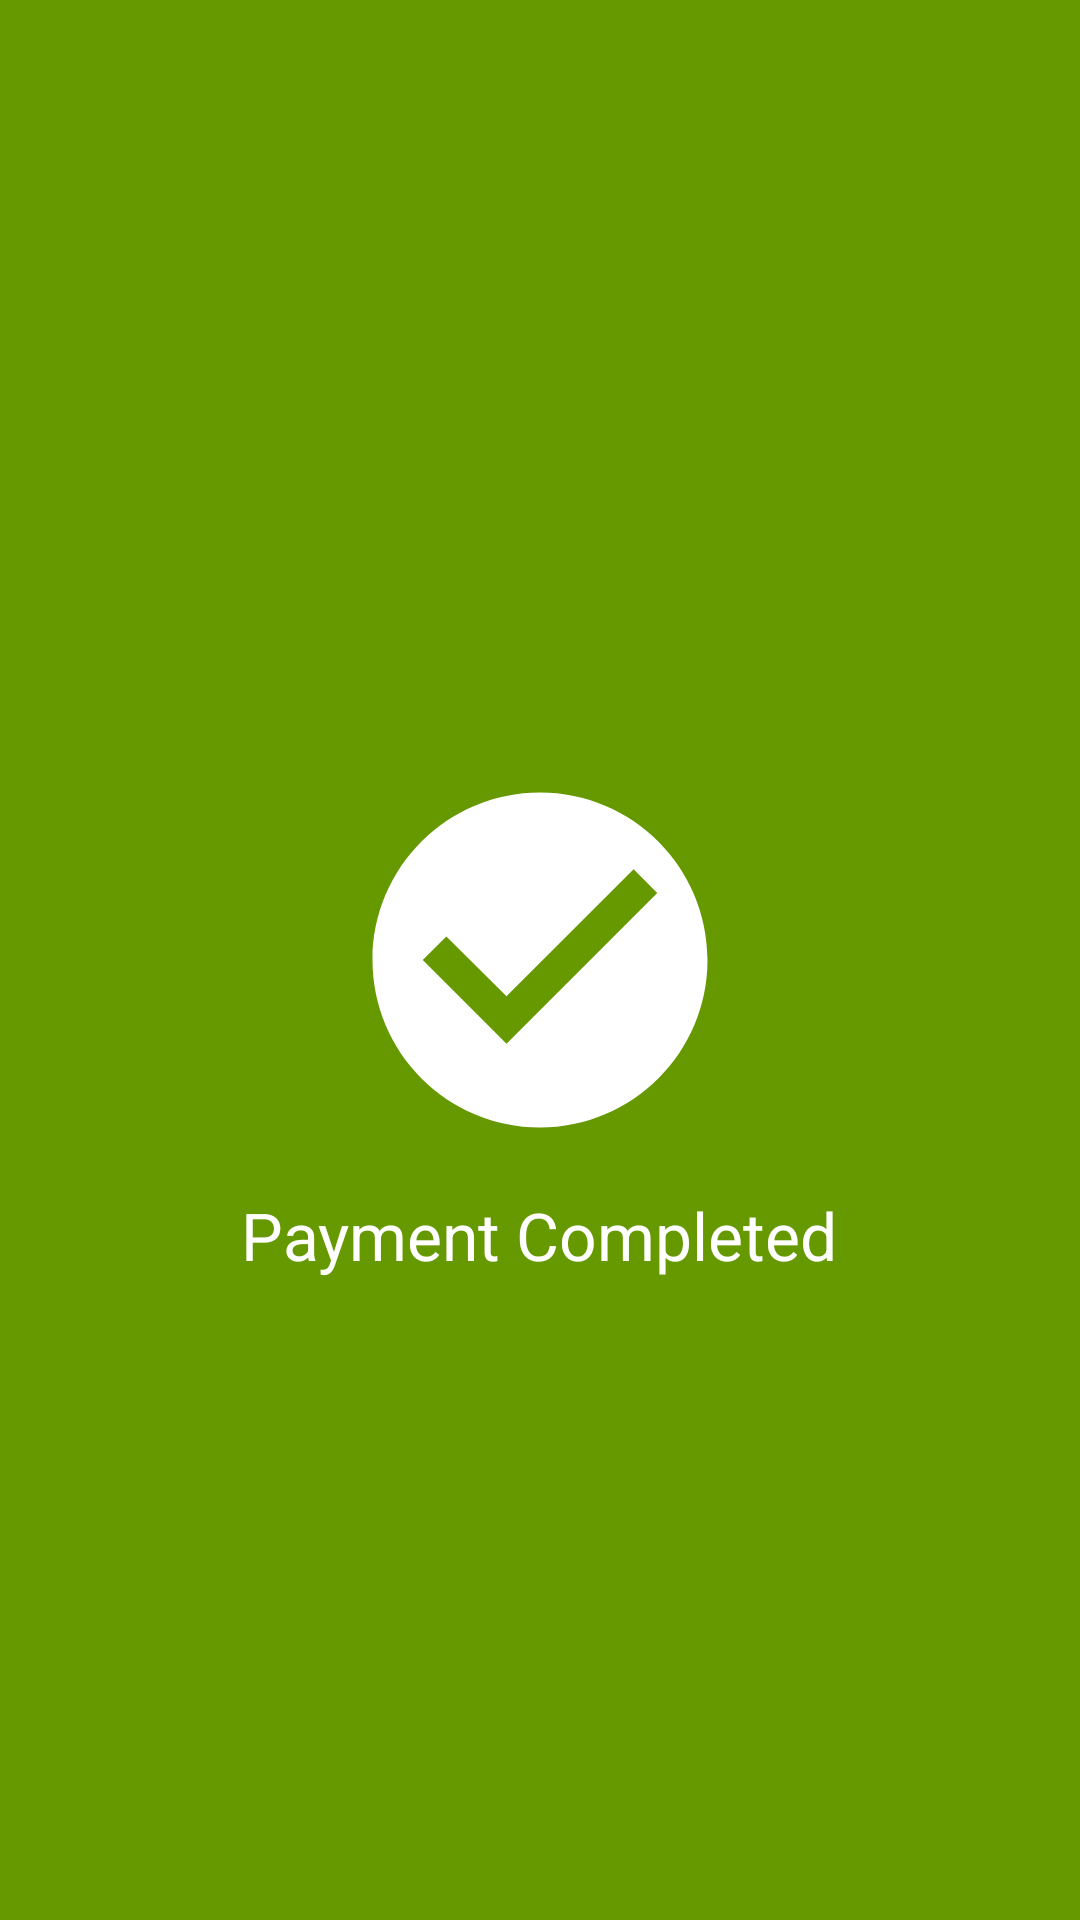

Where icons sit on this 1080px×1920px app screen, as (x1, y1, x2, y2):
check circle: (372, 792, 708, 1128)
